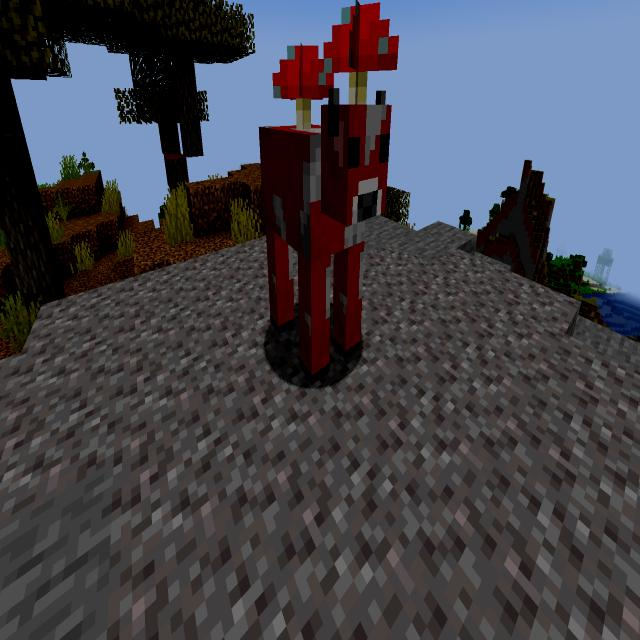Mooshroom: (249, 1, 406, 390)
